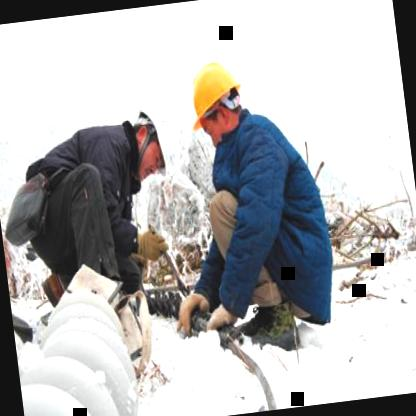helmet: (178, 46, 252, 152), (126, 96, 184, 184)
